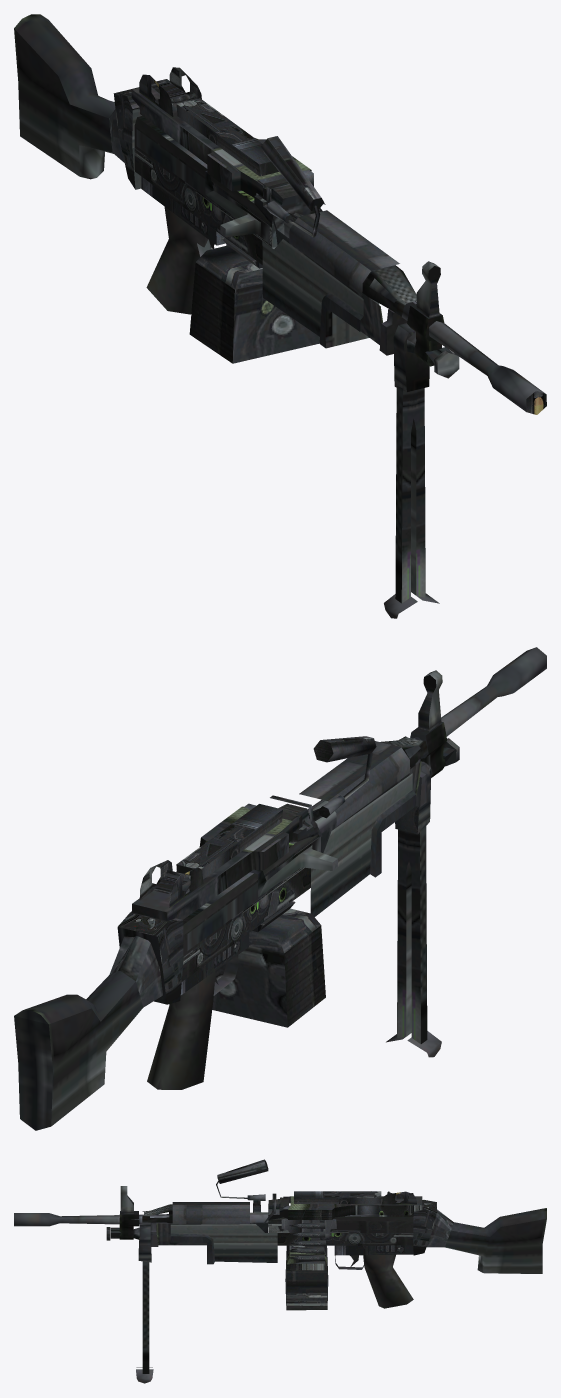
The model's file is SMG_cfq_01_lod1_Body_LOD_(000037).glb.
The picture shows the model from 3 angles, top to bottom: view 1: azimuth 30°, elevation 25°; view 2: azimuth 150°, elevation 25°; view 3: azimuth 270°, elevation 25°; orthographic projection. The views are drawn at different scales.
Visible parts, largest first — view 1: cfq_01_lod1; view 2: cfq_01_lod1; view 3: cfq_01_lod1.
Boxes of the visible parts, x1=… form: cfq_01_lod1: x1=14, y1=14, x2=546, y2=618; cfq_01_lod1: x1=14, y1=647, x2=546, y2=1130; cfq_01_lod1: x1=14, y1=1159, x2=546, y2=1383.
Bounding box in the file's own units: 0.2003 × 0.6245 × 1.43.
Materials: 1 (1 with a texture image).
